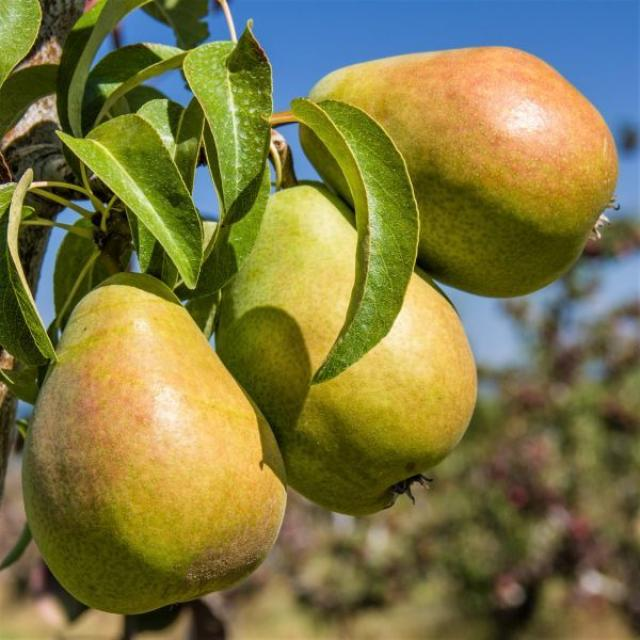paer: (192, 141, 491, 520), (36, 239, 294, 640), (296, 23, 640, 313)
